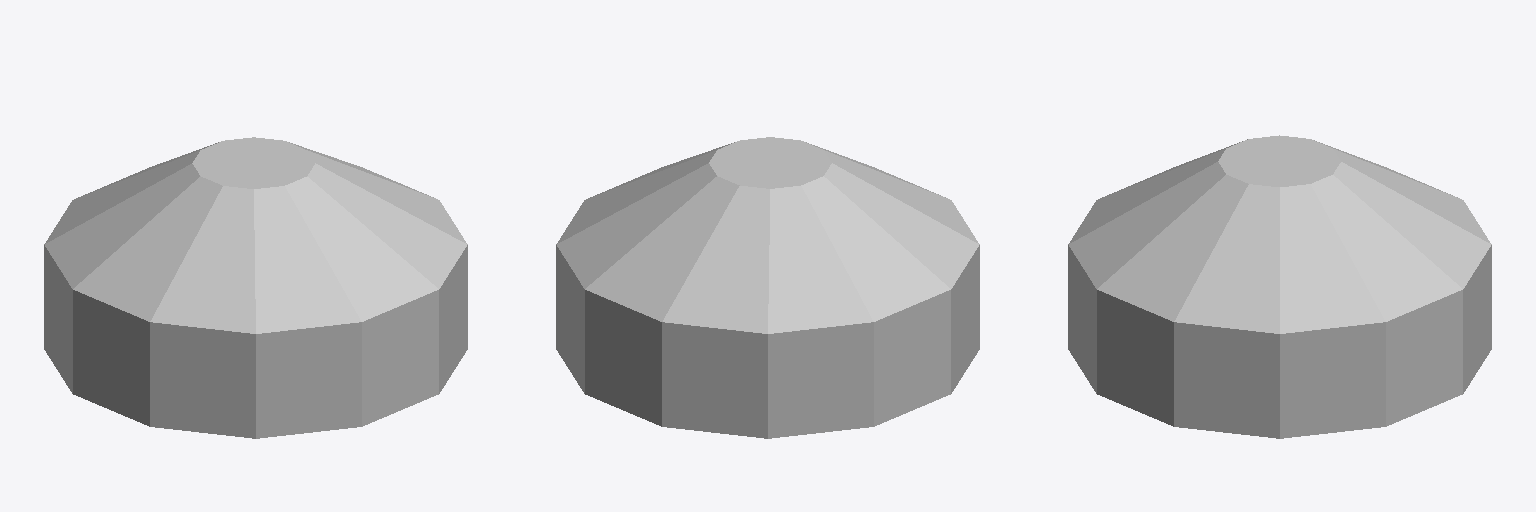
File: Bumper_Collider.obj
3 renders of one model, left to right at view 1: azimuth 30°, elevation 25°; view 2: azimuth 150°, elevation 25°; view 3: azimuth 270°, elevation 25°, orthographic.
Visible parts, largest first — view 1: Bumper_Collider; view 2: Bumper_Collider; view 3: Bumper_Collider.
Boxes of the visible parts, box(x1,y1,x2,y2) form: Bumper_Collider: box(44, 137, 467, 438); Bumper_Collider: box(556, 137, 979, 438); Bumper_Collider: box(1068, 135, 1491, 438).
Size of the model in its own units: 2.9 by 1.41 by 2.9.